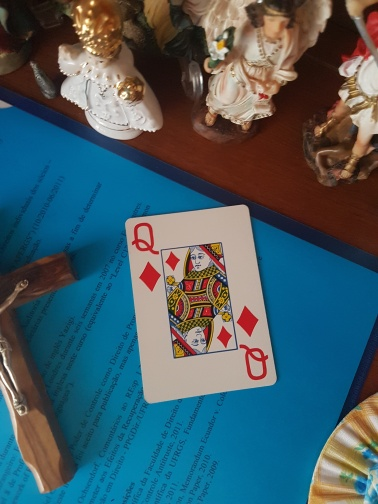queen: (126, 203, 279, 403)
